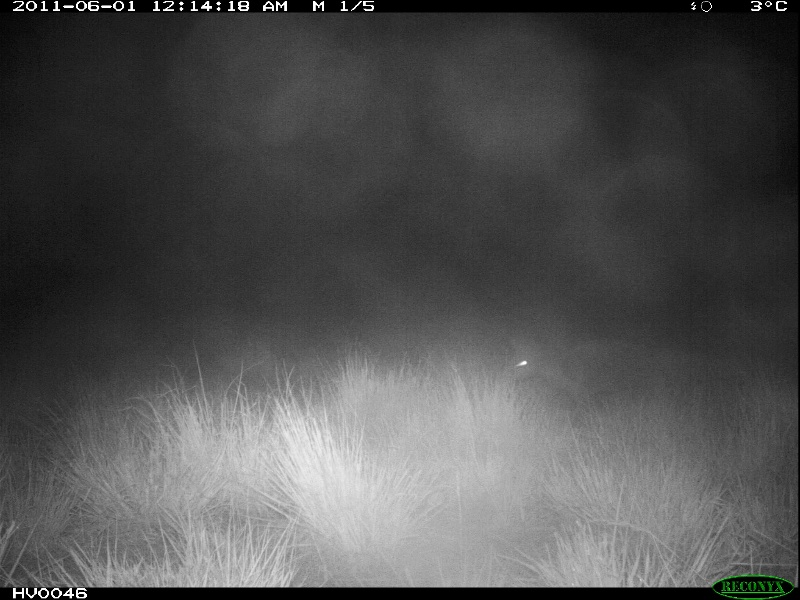fox: (495, 333, 718, 406)
